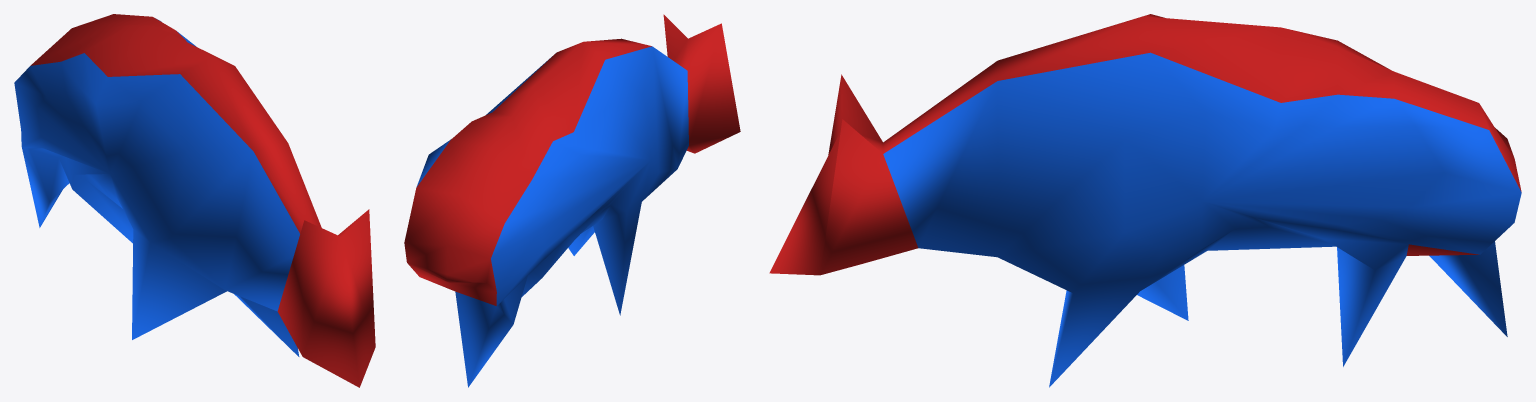
Rendered from Statue_01.obj.
3 views of the same model, side by side, from view 1: azimuth 30°, elevation 25°; view 2: azimuth 150°, elevation 25°; view 3: azimuth 270°, elevation 25° (orthographic). The views are drawn at different scales.
Visible parts, largest first — view 1: Statue_01; view 2: Statue_01; view 3: Statue_01.
Part boxes in pixels (left/top/right/bottom): Statue_01: left=14, top=14, right=375, bottom=387; Statue_01: left=404, top=14, right=740, bottom=387; Statue_01: left=769, top=14, right=1521, bottom=387.
Bounding box in the file's own units: 0.5374 × 0.8846 × 1.76.
